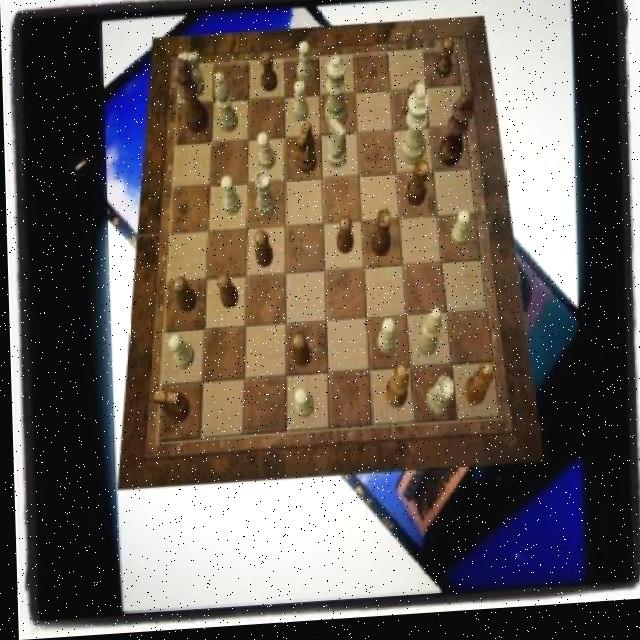bishop: (462, 368, 493, 413), (383, 370, 408, 414)
black-bishop: (437, 98, 476, 174)
black-king: (151, 389, 188, 426), (296, 125, 317, 178)
black-knight: (171, 279, 195, 315), (434, 43, 454, 85), (401, 86, 420, 127), (253, 232, 272, 271), (216, 274, 236, 311), (260, 57, 278, 97), (290, 335, 309, 370), (335, 221, 352, 259)
black-pawn: (172, 59, 210, 137)
black-queen: (405, 166, 430, 213), (368, 214, 391, 261)
black-rook: (215, 74, 239, 137), (412, 315, 440, 364)
white-bishop: (398, 88, 432, 172)
white-king: (178, 54, 204, 101), (326, 120, 347, 174)
white-knight: (167, 335, 193, 372), (220, 179, 240, 220), (449, 214, 469, 253), (292, 84, 309, 127), (257, 135, 276, 173), (374, 323, 394, 359), (295, 46, 312, 88), (291, 392, 311, 424)
white-pawn: (322, 60, 348, 133)
white-queen: (423, 381, 451, 423), (254, 175, 277, 222)
